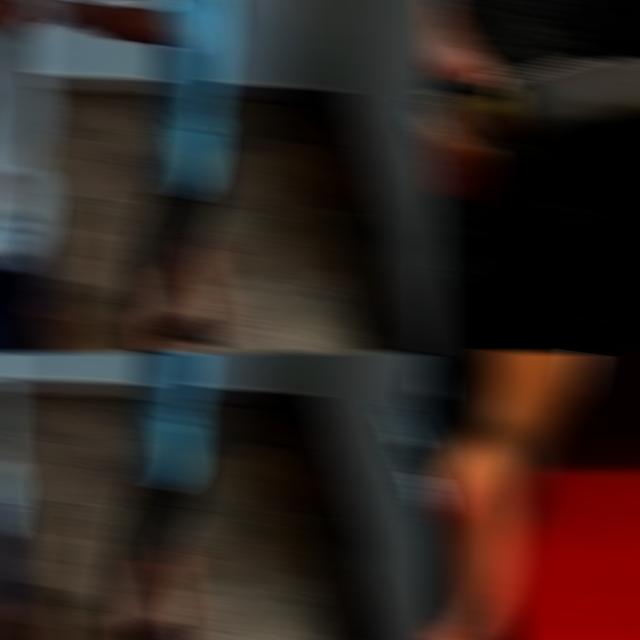Knife: (427, 48, 640, 146)
Knife_Handle: (427, 0, 640, 248)
